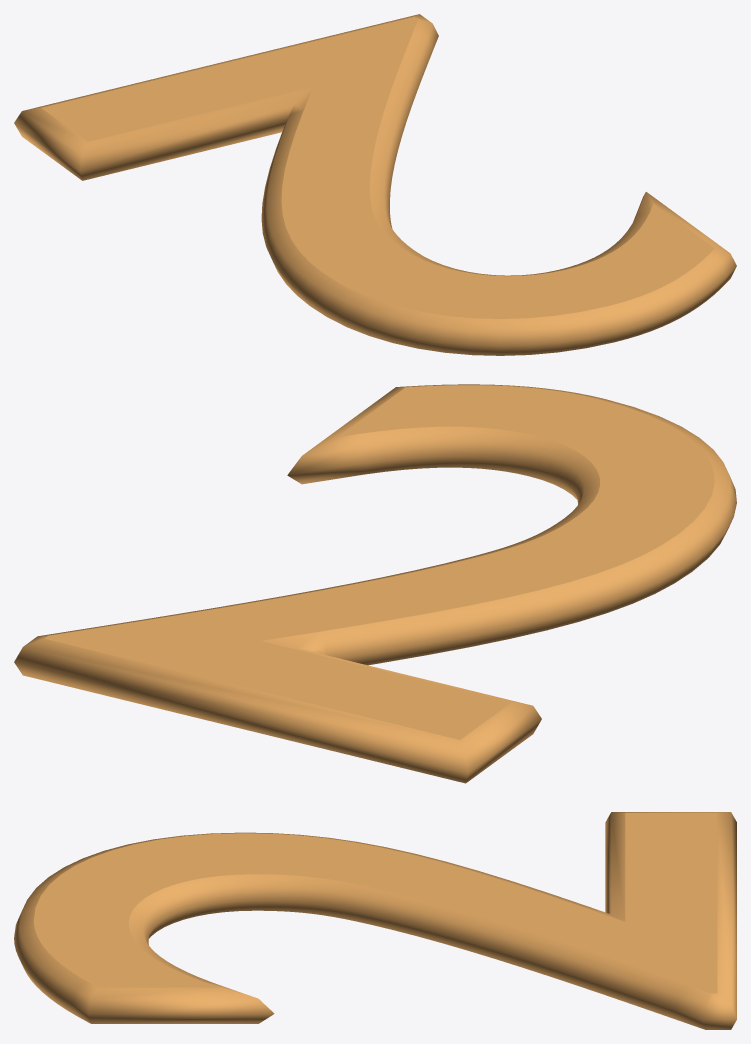
The model's file is side2.gltf.
The picture shows the model from 3 angles, top to bottom: view 1: azimuth 30°, elevation 25°; view 2: azimuth 150°, elevation 25°; view 3: azimuth 270°, elevation 25°; orthographic projection. The views are drawn at different scales.
Visible parts, largest first — view 1: Text; view 2: Text; view 3: Text.
Boxes of the visible parts, x1,y1,x2,y2 form: Text: (14,14,736,355); Text: (14,384,736,783); Text: (14,812,736,1029).
Size of what is drawn, in the model's own units: 0.3994 by 0.0338 by 0.6185.
